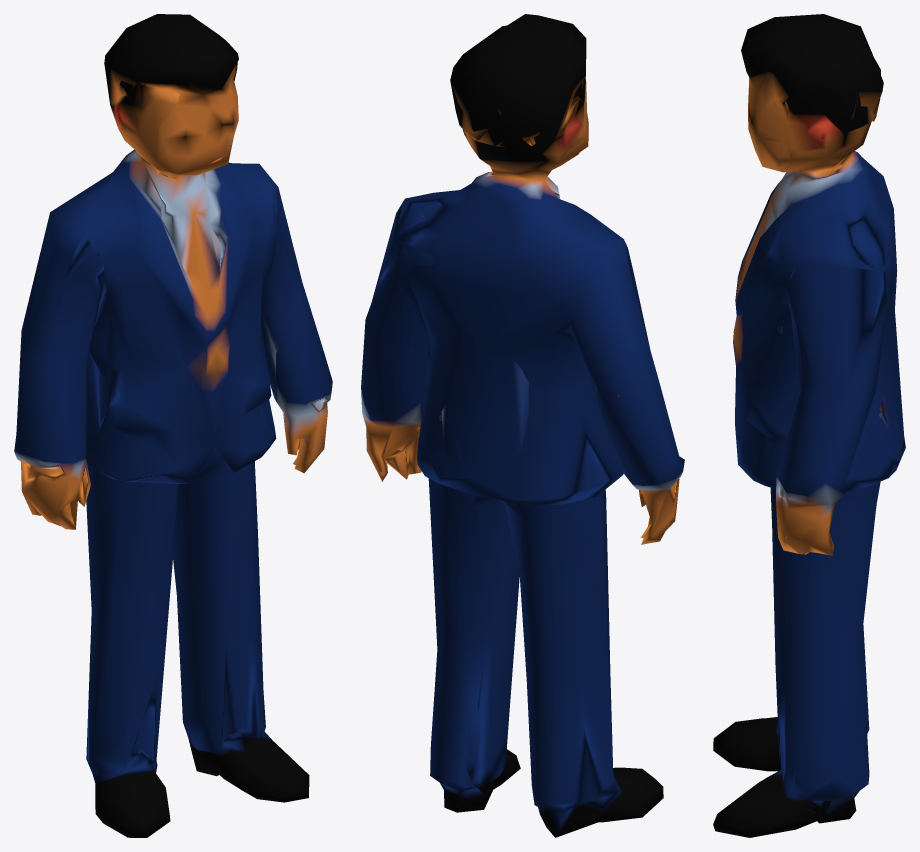
File: gen3d-investor-lod0.glb
3 renders of one model, left to right at view 1: azimuth 30°, elevation 25°; view 2: azimuth 150°, elevation 25°; view 3: azimuth 270°, elevation 25°, orthographic. The views are drawn at different scales.
Visible parts, largest first — view 1: part_0; view 2: part_0; view 3: part_0.
Part boxes in pixels (x1,y1,x2,y2): part_0: (14,14,332,837); part_0: (361,14,684,837); part_0: (713,14,905,837).
Size of the model in its own units: 0.4233 by 0.9954 by 0.2259.
